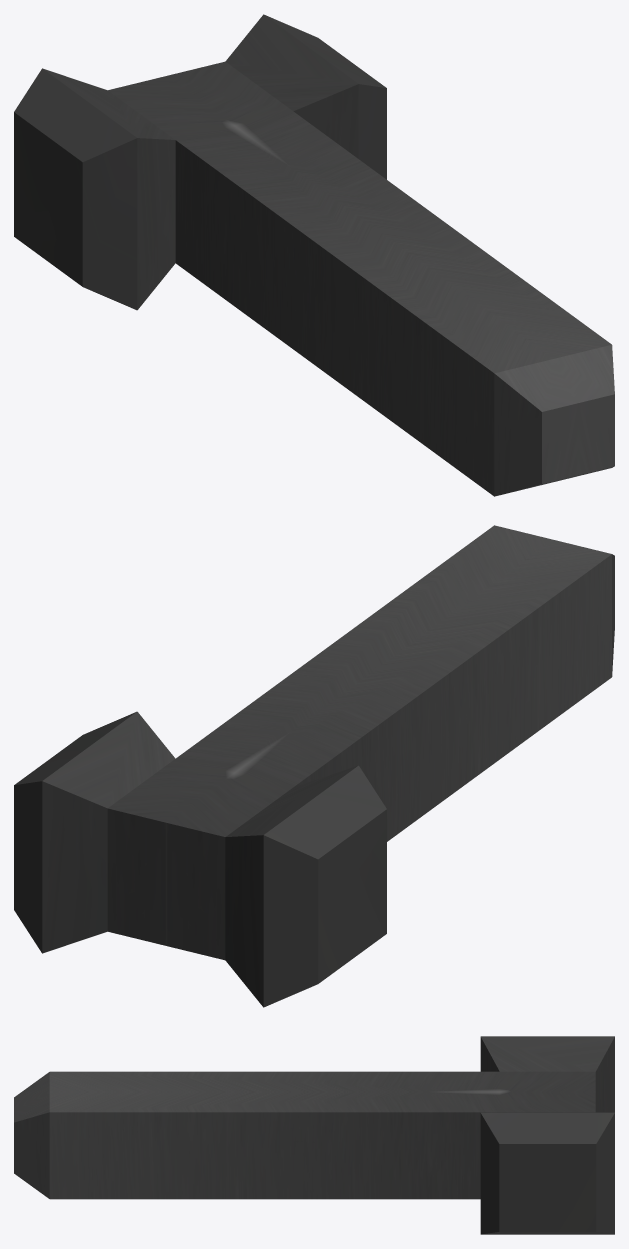
The model's file is cock.obj.
3 views of the same model, one above another, from view 1: azimuth 30°, elevation 25°; view 2: azimuth 150°, elevation 25°; view 3: azimuth 270°, elevation 25° (orthographic). The views are drawn at different scales.
Parts seen in each view (by area): view 1: Cube; view 2: Cube; view 3: Cube.
Boxes of the visible parts, bbox=[...] form: Cube: bbox=[14, 14, 614, 496]; Cube: bbox=[14, 525, 614, 1007]; Cube: bbox=[14, 1036, 614, 1234].
Bounding box in the file's own units: 5.17 × 2.8 × 12.52.
